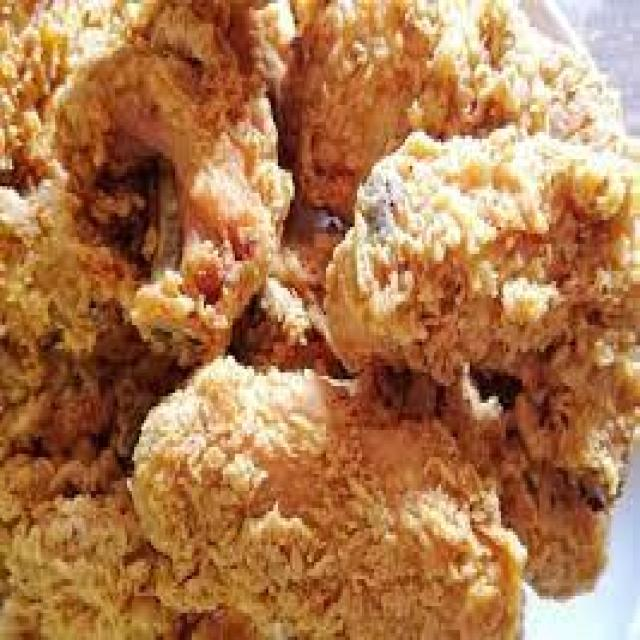Frango: (137, 380, 508, 640), (353, 136, 640, 470), (62, 0, 312, 354), (336, 0, 592, 193), (14, 499, 206, 640)
